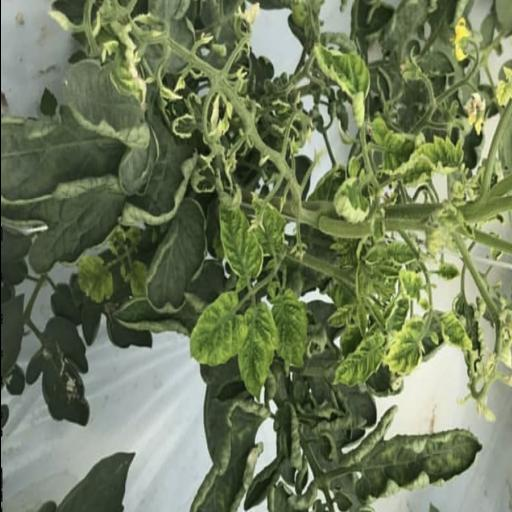disease_tomato: (188, 290, 250, 370), (236, 299, 278, 401), (217, 204, 264, 280), (270, 289, 310, 369), (330, 333, 388, 387), (383, 318, 427, 376)
